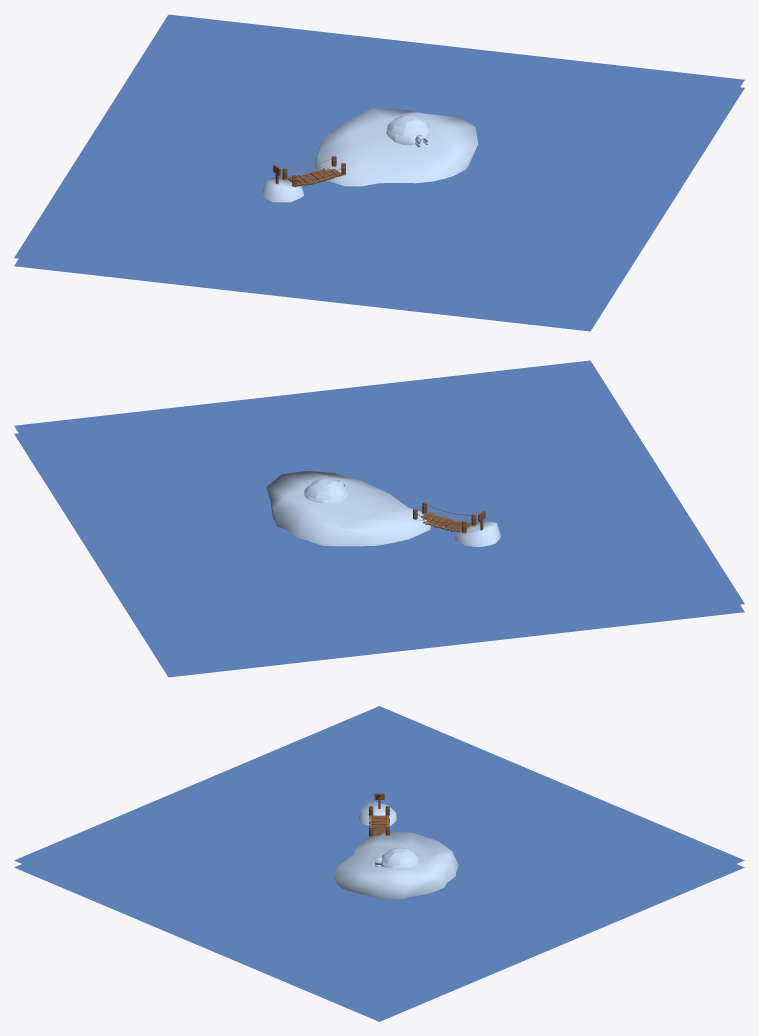
Rendered from Map.gltf.
3 renders of one model, top to bottom at view 1: azimuth 30°, elevation 25°; view 2: azimuth 150°, elevation 25°; view 3: azimuth 270°, elevation 25°, orthographic. The views are drawn at different scales.
Visible parts, largest first — view 1: Ocean, Mainland, OceanFloor, Island; view 2: Ocean, Mainland, OceanFloor, Island; view 3: Ocean, Mainland, OceanFloor.
Boxes of the visible parts, bbox=[...] form: Ocean: bbox=[14, 14, 744, 323]; Mainland: bbox=[315, 108, 478, 186]; OceanFloor: bbox=[14, 87, 744, 331]; Island: bbox=[262, 177, 303, 202]; Ocean: bbox=[14, 360, 744, 669]; Mainland: bbox=[266, 471, 430, 546]; OceanFloor: bbox=[14, 433, 744, 677]; Island: bbox=[455, 521, 500, 546]; Ocean: bbox=[14, 706, 744, 1014]; Mainland: bbox=[333, 831, 458, 899]; OceanFloor: bbox=[14, 864, 744, 1021].
Size of the model in its own units: 141 by 7.36 by 141.
Materials: 5 (1 with a texture image).
